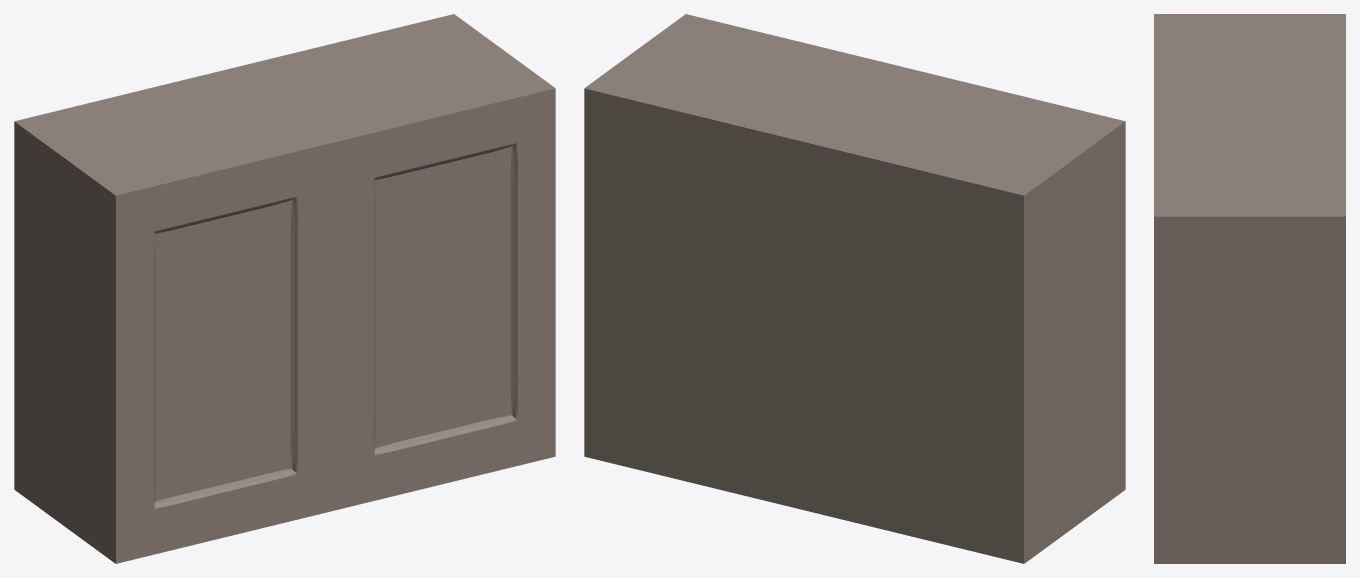
The model's file is Wall-Cabinet-21-High-12-Deep_std_001_H24in_onlyH.glb.
3 views of the same model, side by side, from view 1: azimuth 30°, elevation 25°; view 2: azimuth 150°, elevation 25°; view 3: azimuth 270°, elevation 25° (orthographic). The views are drawn at different scales.
Visible parts, largest first — view 1: Wall-Cabinet-21-High-12-Deep.std.001_H24in_onlyH; view 2: Wall-Cabinet-21-High-12-Deep.std.001_H24in_onlyH; view 3: Wall-Cabinet-21-High-12-Deep.std.001_H24in_onlyH.
Part boxes in pixels (x1=…): Wall-Cabinet-21-High-12-Deep.std.001_H24in_onlyH: x1=14, y1=14, x2=555, y2=563; Wall-Cabinet-21-High-12-Deep.std.001_H24in_onlyH: x1=584, y1=14, x2=1125, y2=563; Wall-Cabinet-21-High-12-Deep.std.001_H24in_onlyH: x1=1154, y1=14, x2=1345, y2=563.
Bounding box in the file's own units: 0.762 × 0.6096 × 0.3048.
